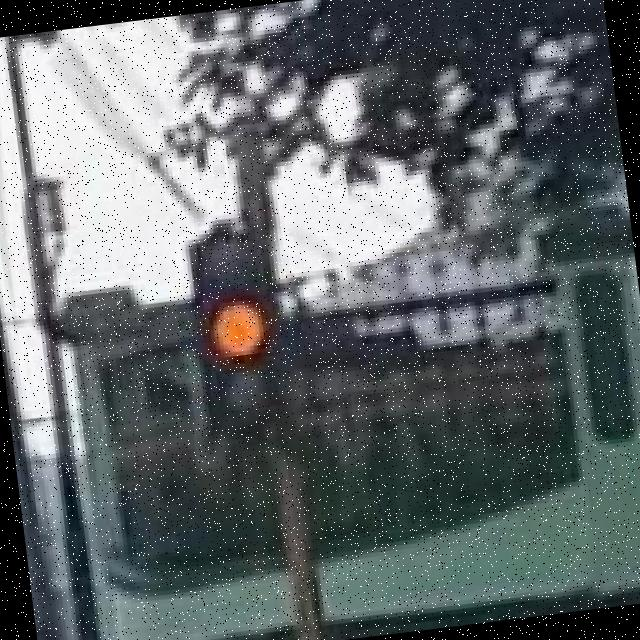Zolte swiatlo: (183, 222, 291, 438)
